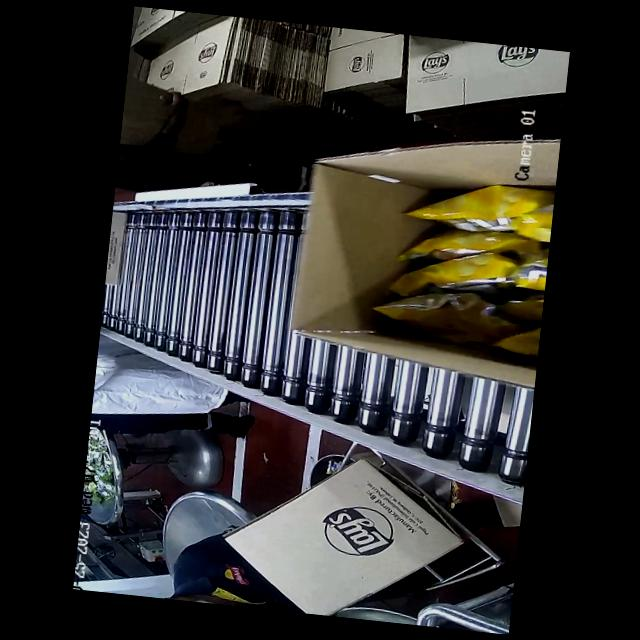salted: (372, 181, 553, 344)
